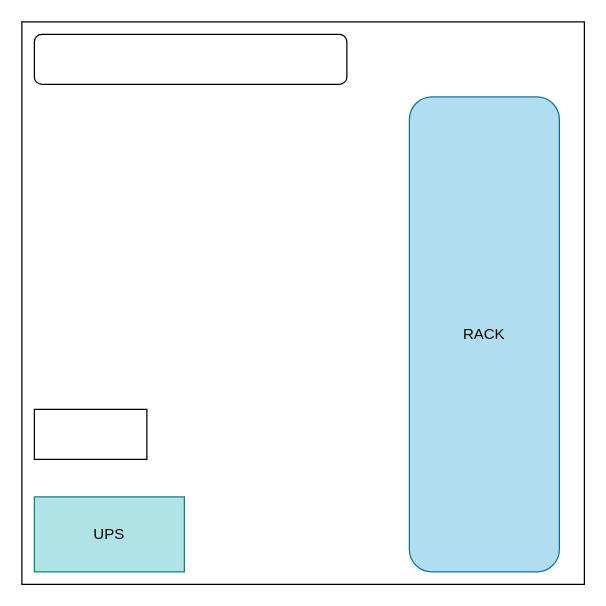
The diagram is 606 pixels wide and 606 high, and some of its shapes have lost their labels. Each missing label, with the box of its shape:
air cooler: (33, 33, 347, 84)
POWER: (33, 408, 147, 459)
